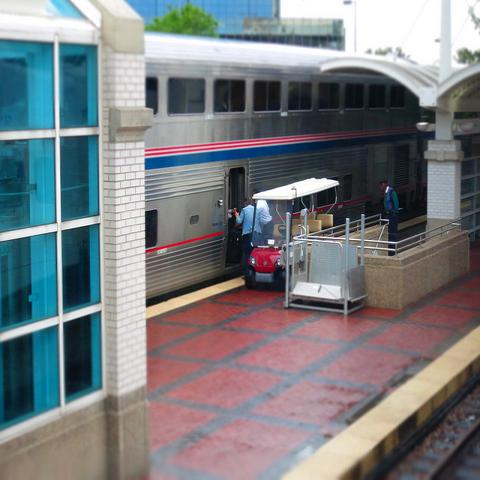car: (243, 175, 340, 289)
